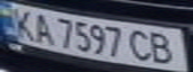5: (69, 19, 93, 53)
7: (103, 24, 127, 58), (51, 16, 75, 48)
9: (87, 21, 109, 55)
A: (27, 11, 57, 45)
B: (145, 29, 184, 65)
C: (127, 27, 157, 63)
K: (3, 6, 42, 40)
